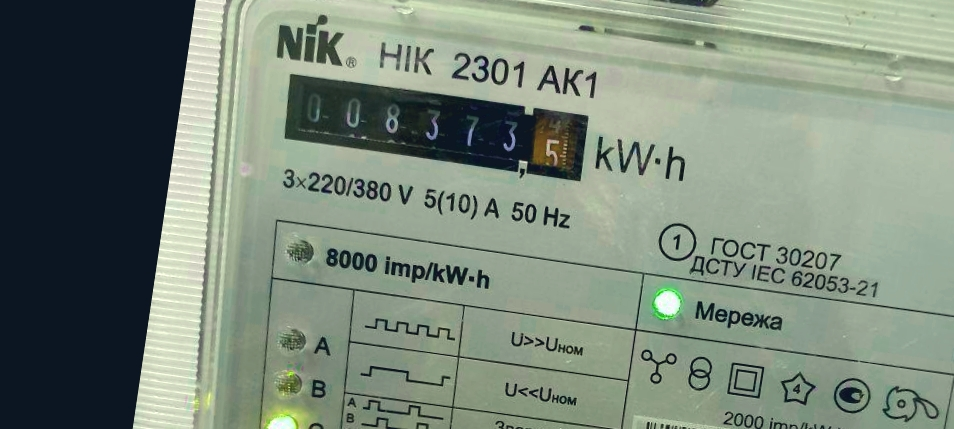0: (300, 88, 325, 126), (340, 92, 364, 131)
3: (495, 115, 523, 155), (418, 104, 444, 144)
4: (544, 114, 564, 136)
5: (540, 135, 563, 167)
7: (458, 109, 481, 150)
8: (379, 98, 405, 137)
screen: (272, 63, 599, 196)
